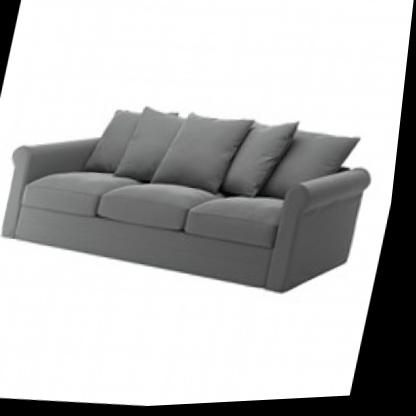Sofa: (0, 58, 397, 330)
